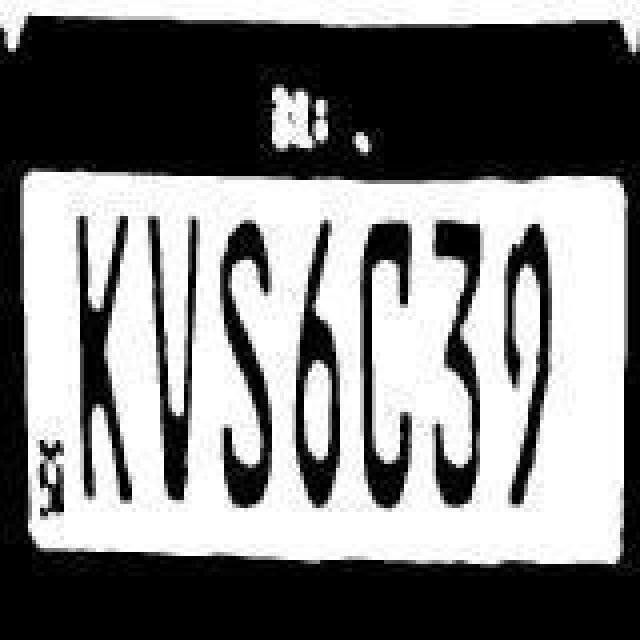3: (424, 212, 488, 508)
6: (280, 214, 352, 522)
9: (494, 206, 562, 514)
C: (360, 218, 424, 518)
K: (62, 198, 138, 506)
S: (204, 212, 276, 516)
V: (142, 204, 202, 500)
